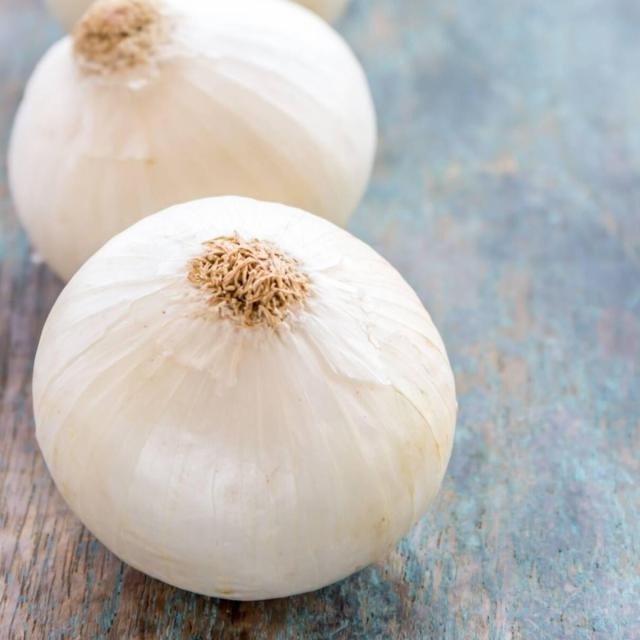Onion: (34, 194, 460, 598), (3, 0, 377, 282)
